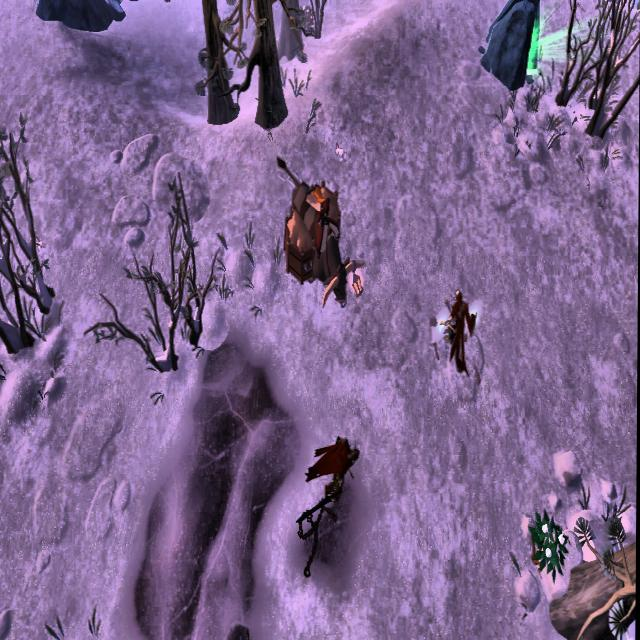enemy_factionUndead: (297, 436, 357, 514), (440, 288, 475, 371)
fiber_t3: (529, 506, 569, 582)
